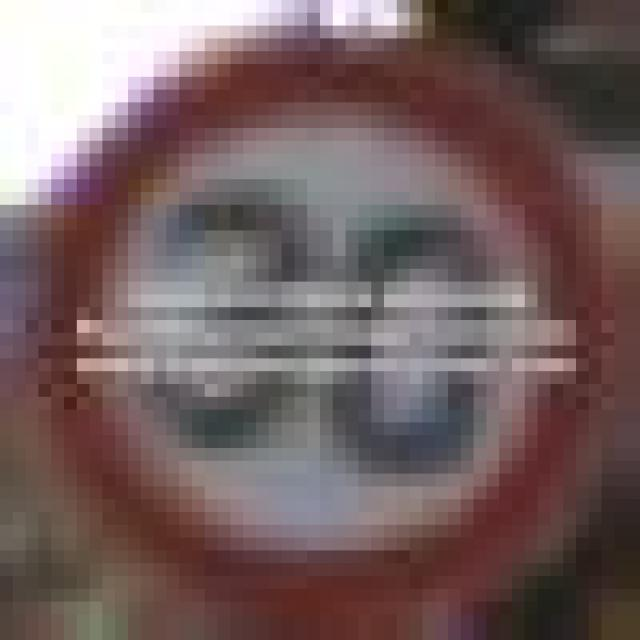SPEED_LIMIT_30: (39, 13, 602, 627)
